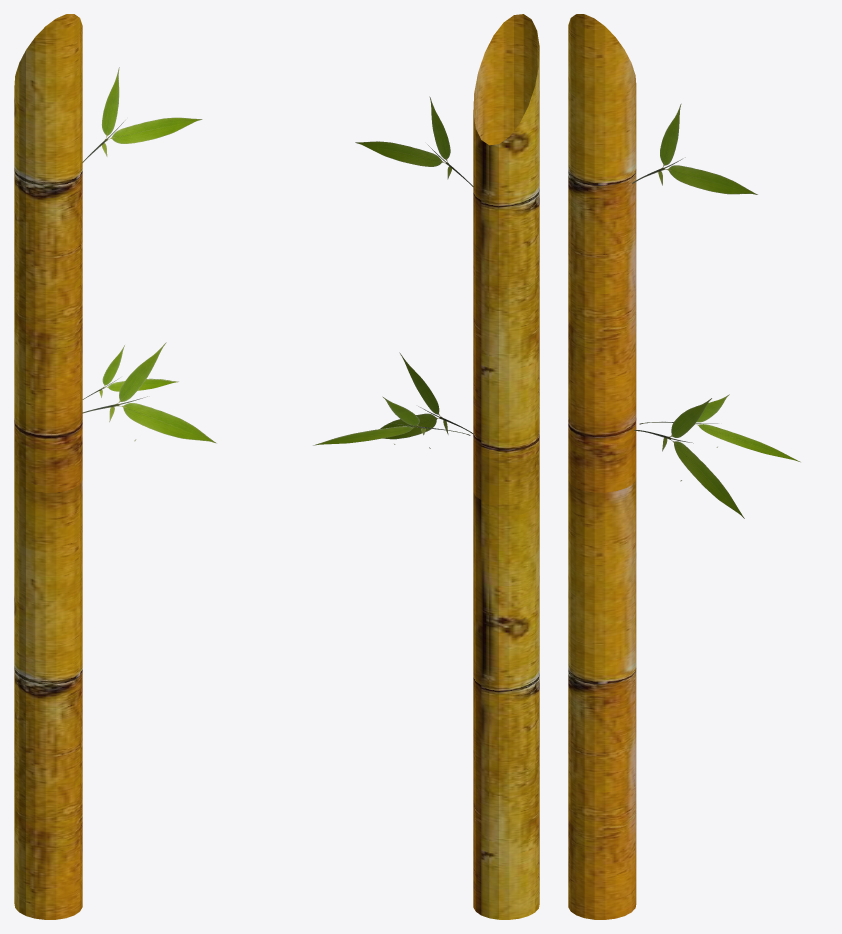
The model's file is bamboo2 (1).fbx.
3 renders of one model, left to right at view 1: azimuth 30°, elevation 25°; view 2: azimuth 150°, elevation 25°; view 3: azimuth 330°, elevation 25°, orthographic. The views are drawn at different scales.
Visible parts, largest first — view 1: pCylinder2; view 2: pCylinder2; view 3: pCylinder2.
Part boxes in pixels (box(x1,y1,x2,y2)): pCylinder2: box(14, 14, 216, 919); pCylinder2: box(313, 14, 539, 919); pCylinder2: box(568, 14, 800, 919).
Bounding box in the file's own units: 5.94 × 22.83 × 2.69.
Materials: 3 (2 with a texture image).
